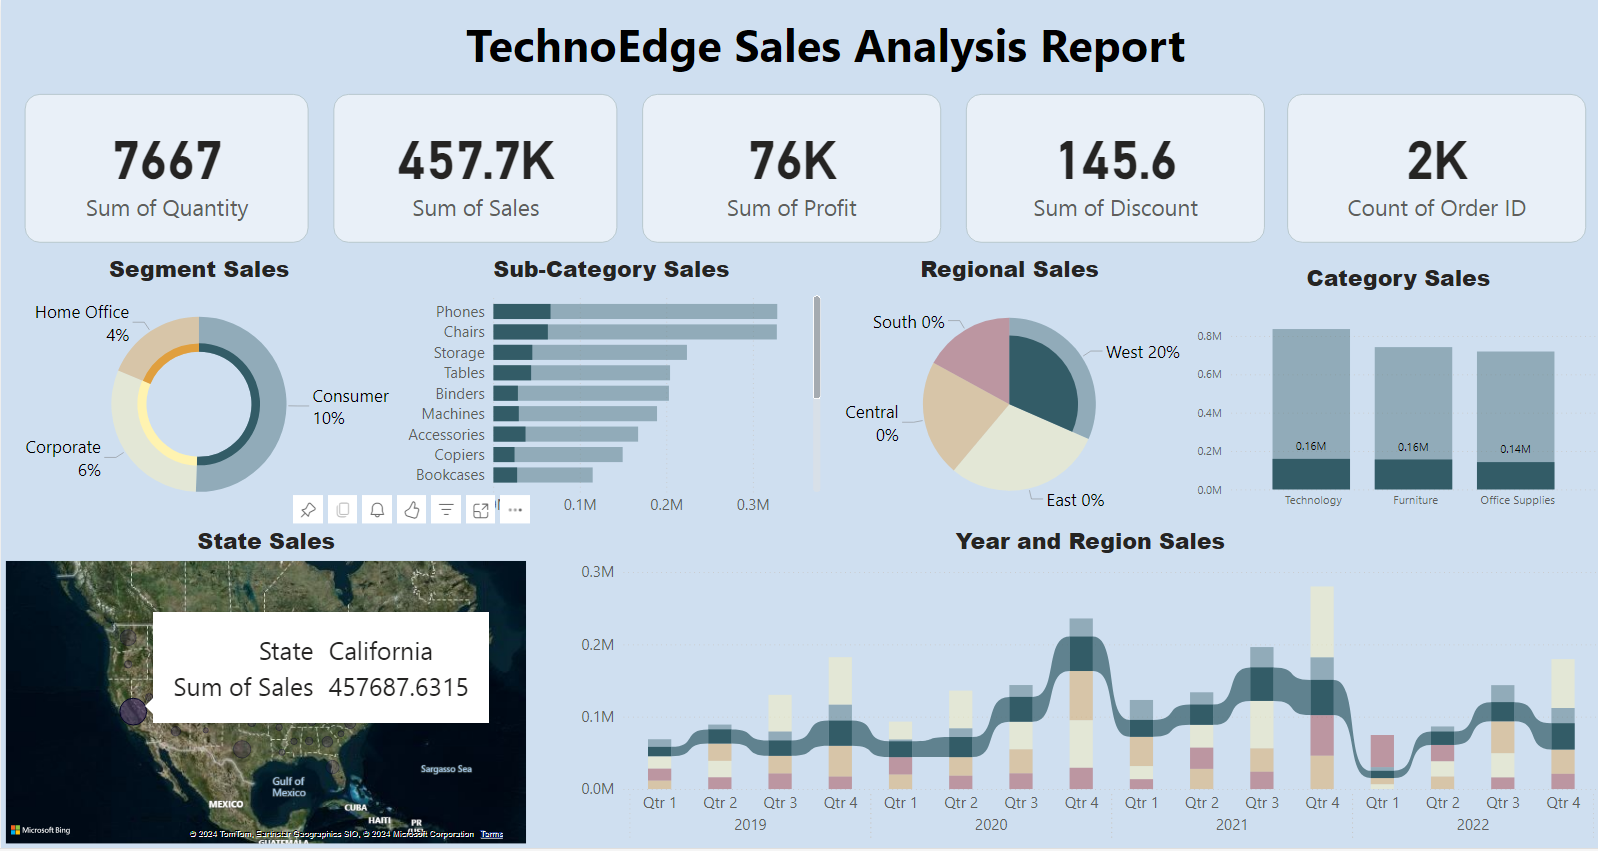

The dashboard page shown, as its layout file describes it:
{"tool":"powerbi","page":{"name":"Page 1","canvas":[1700,900],"ordinal":0},"visuals":[{"type":"barChart","title":"Sub-Category Sales","fields":{"Category":["Monthly Sales Data 2.Sub-Category"],"Y":["Sum(Monthly Sales Data 2.Sales)"]},"box":[420.1,268.7,454,288.8],"z":0},{"type":"pieChart","title":"Regional Sales","fields":{"Y":["Sum(Monthly Sales Data 2.Sales)"],"Category":["Monthly Sales Data 2.Region"]},"box":[874.1,268.7,389.2,288.8],"z":1},{"type":"donutChart","title":"Segment Sales","fields":{"Category":["Monthly Sales Data 2.Segment"],"Y":["Sum(Monthly Sales Data 2.Sales)"]},"box":[0,268.7,420.1,288.8],"z":2},{"type":"columnChart","title":"Category Sales","fields":{"Category":["Monthly Sales Data 2.Category"],"Y":["Sum(Monthly Sales Data 2.Sales)"]},"box":[1263.3,278,437,271.8],"z":3},{"type":"ribbonChart","title":"Year and Region Sales","fields":{"Category":["Monthly Sales Data 2.Order Date.Variation.Date Hierarchy.Year","Monthly Sales Data 2.Order Date.Variation.Date Hierarchy.Quarter","Monthly Sales Data 2.Order Date.Variation.Date Hierarchy.Month","Monthly Sales Data 2.Order Date.Variation.Date Hierarchy.Day"],"Y":["Sum(Monthly Sales Data 2.Sales)"],"Series":["Monthly Sales Data 2.Region"]},"box":[610,557.5,1090.3,342.8],"z":4},{"type":"actionButton","box":[461.8,6.2,826.2,88],"z":5},{"type":"map","title":"State Sales","fields":{"Category":["Monthly Sales Data 2.State"],"Size":["Sum(Monthly Sales Data 2.Sales)"]},"box":[0,557.5,562.1,342.8],"z":6},{"type":"card","fields":{"Values":["Sum(Monthly Sales Data 2.Sales)"]},"box":[352.1,100.4,301.1,157.5],"z":7},{"type":"card","fields":{"Values":["Sum(Monthly Sales Data 2.Discount)"]},"box":[1022.4,100.4,316.6,157.5],"z":8},{"type":"card","fields":{"Values":["Sum(Monthly Sales Data 2.Quantity)"]},"box":[24.7,100.4,301.1,157.5],"z":9},{"type":"card","fields":{"Values":["Sum(Monthly Sales Data 2.Profit)"]},"box":[679.5,100.4,316.6,157.5],"z":10},{"type":"card","fields":{"Values":["CountNonNull(Monthly Sales Data 2.Order ID)"]},"box":[1363.6,100.4,316.6,157.5],"z":11}]}

Visuals, with their boxes in screenshot pixels (x1, y1, x2, y2), scaled from the page's 1700x900 canvas onto the 1598x851 screenshot:
"Sub-Category Sales" barChart: <region>395, 254, 822, 527</region>
"Regional Sales" pieChart: <region>822, 254, 1188, 527</region>
"Segment Sales" donutChart: <region>0, 254, 395, 527</region>
"Category Sales" columnChart: <region>1188, 263, 1597, 520</region>
"Year and Region Sales" ribbonChart: <region>573, 527, 1597, 850</region>
actionButton: <region>434, 6, 1211, 89</region>
"State Sales" map: <region>0, 527, 528, 850</region>
card - Sum(Monthly Sales Data 2.Sales): <region>331, 95, 614, 244</region>
card - Sum(Monthly Sales Data 2.Discount): <region>961, 95, 1259, 244</region>
card - Sum(Monthly Sales Data 2.Quantity): <region>23, 95, 306, 244</region>
card - Sum(Monthly Sales Data 2.Profit): <region>639, 95, 936, 244</region>
card - CountNonNull(Monthly Sales Data 2.Order ID): <region>1282, 95, 1579, 244</region>
